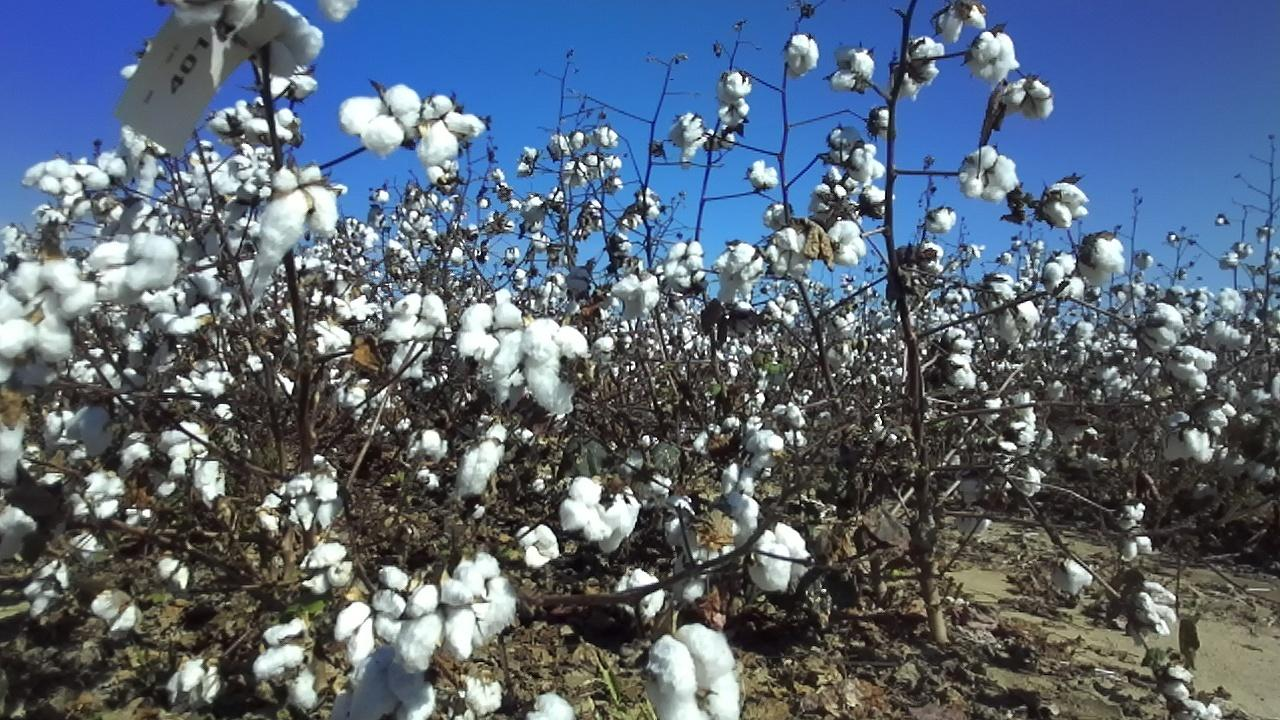cotton_ready: (253, 164, 342, 278), (644, 622, 742, 720), (493, 319, 594, 410), (392, 581, 479, 671), (0, 290, 75, 382), (560, 474, 645, 554), (336, 82, 420, 162), (455, 550, 519, 647), (352, 649, 437, 720), (88, 232, 180, 297), (252, 0, 325, 80), (252, 622, 317, 708), (669, 518, 733, 604), (335, 590, 409, 664), (7, 262, 99, 320), (416, 95, 482, 169), (748, 522, 815, 591), (149, 274, 219, 337), (457, 300, 525, 361), (958, 145, 1020, 204), (300, 537, 354, 597), (287, 470, 340, 531), (714, 242, 765, 302), (385, 292, 445, 341), (967, 30, 1021, 84), (1161, 411, 1215, 465), (67, 402, 117, 458), (167, 659, 224, 708), (1077, 233, 1125, 290), (612, 569, 665, 617), (710, 494, 764, 541), (456, 439, 499, 497), (17, 157, 82, 195), (0, 407, 32, 482), (615, 270, 665, 318), (996, 298, 1044, 347), (1042, 182, 1092, 229), (0, 504, 39, 562), (930, 351, 979, 397), (905, 34, 949, 85), (768, 224, 812, 275), (75, 150, 129, 191), (160, 417, 210, 461), (1002, 78, 1054, 119), (89, 590, 139, 632), (824, 221, 869, 267), (832, 40, 875, 88), (897, 242, 945, 281), (936, 5, 989, 40), (1141, 306, 1183, 350), (1168, 347, 1210, 389), (664, 239, 705, 279), (848, 144, 887, 185), (980, 274, 1016, 318), (1042, 257, 1080, 297), (810, 184, 849, 219), (334, 294, 379, 322), (313, 321, 352, 350)
